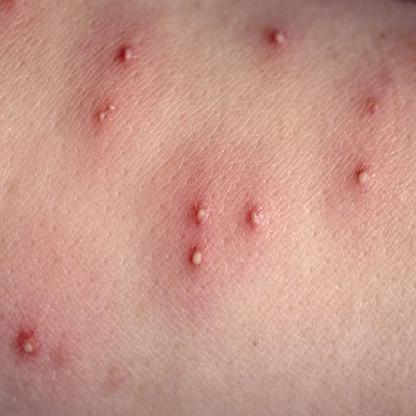Fire ant: (16, 328, 38, 358), (94, 99, 119, 125), (188, 244, 209, 272), (352, 161, 375, 186), (269, 23, 288, 49), (191, 198, 208, 226), (243, 204, 262, 228), (364, 90, 381, 116), (117, 40, 137, 62)
